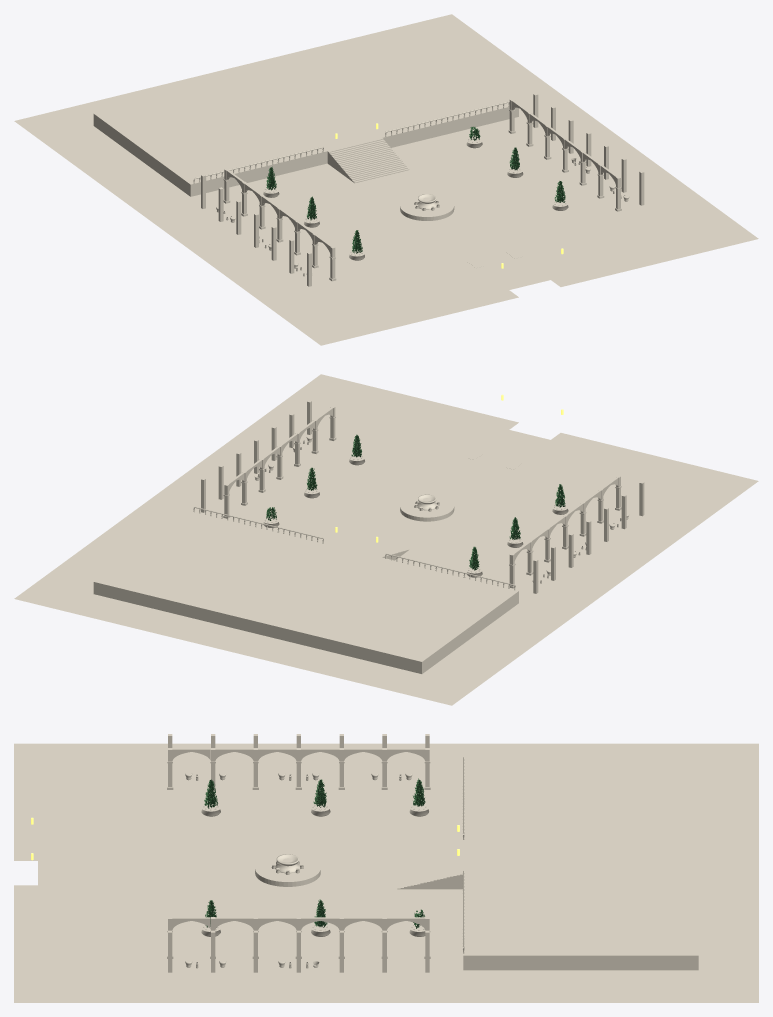
The model's file is castle-00.glb.
The picture shows the model from 3 angles, top to bottom: view 1: azimuth 30°, elevation 25°; view 2: azimuth 150°, elevation 25°; view 3: azimuth 270°, elevation 25°; orthographic projection. The views are drawn at different scales.
Visible parts, largest first — view 1: NC.Export.Site.DeckFloor, NC.Export.Courtyard.IvoryStone.00; view 2: NC.Export.Site.DeckFloor, NC.Export.Courtyard.IvoryStone.00; view 3: NC.Export.Site.DeckFloor, NC.Export.Courtyard.IvoryStone.00, NC.Export.Courtyard.Cypress0.00, NC.Export.Courtyard.Cypress0.01.
Part boxes in pixels (x1=…): NC.Export.Site.DeckFloor: x1=14, y1=14, x2=758, y2=345; NC.Export.Courtyard.IvoryStone.00: x1=93, y1=33, x2=644, y2=286; NC.Export.Site.DeckFloor: x1=14, y1=374, x2=758, y2=705; NC.Export.Courtyard.IvoryStone.00: x1=93, y1=400, x2=644, y2=673; NC.Export.Site.DeckFloor: x1=14, y1=743, x2=758, y2=1002; NC.Export.Courtyard.IvoryStone.00: x1=112, y1=734, x2=698, y2=972; NC.Export.Courtyard.Cypress0.00: x1=204, y1=778, x2=425, y2=808; NC.Export.Courtyard.Cypress0.01: x1=205, y1=780, x2=424, y2=928.
Size of the model in its own units: 112 by 8.1 by 136.
